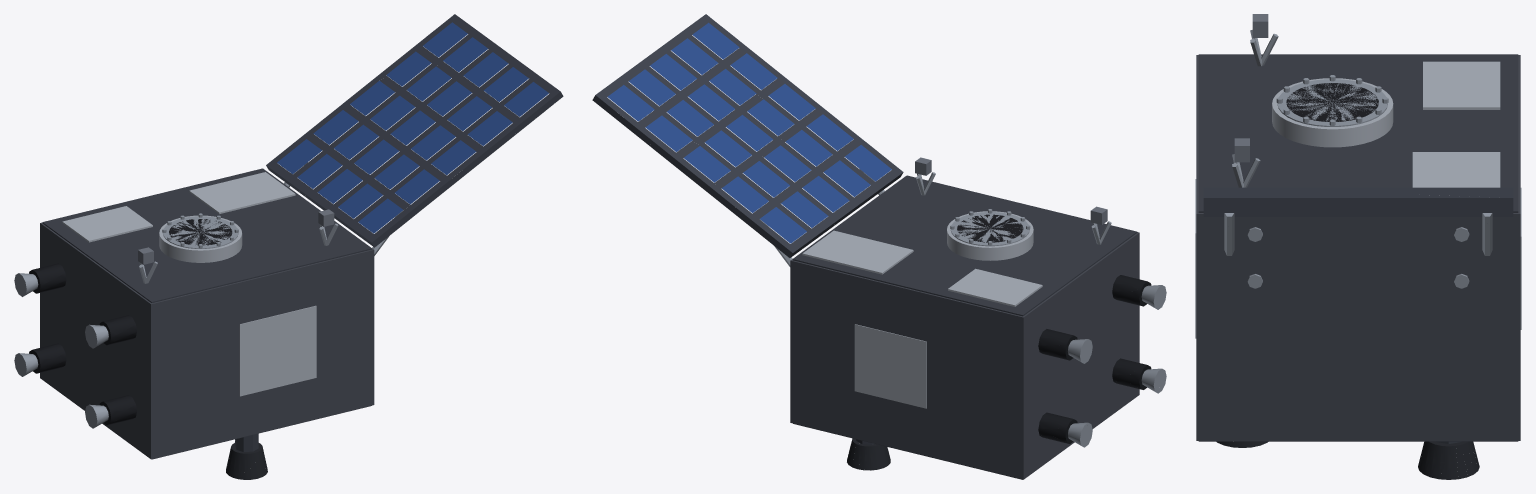
Rendered from proba-3-csc.glb.
The picture shows the model from 3 angles, left to right: view 1: azimuth 30°, elevation 25°; view 2: azimuth 150°, elevation 25°; view 3: azimuth 270°, elevation 25°; orthographic projection. The views are drawn at different scales.
Visible parts, largest first — view 1: foil, body, solar-panel; view 2: foil, body, solar-panel; view 3: foil, body, solar-panel.
Boxes of the visible parts, x1,y1,x2,y2 form: foil: (40, 168, 374, 459); body: (14, 14, 563, 479); solar-panel: (277, 22, 548, 255); foil: (790, 175, 1139, 479); body: (592, 14, 1166, 470); solar-panel: (607, 22, 891, 266); foil: (1196, 54, 1520, 441); body: (1195, 14, 1521, 479); solar-panel: (1224, 213, 1492, 255).
Bounding box in the file's own units: 2.98 × 1.98 × 1.27.
